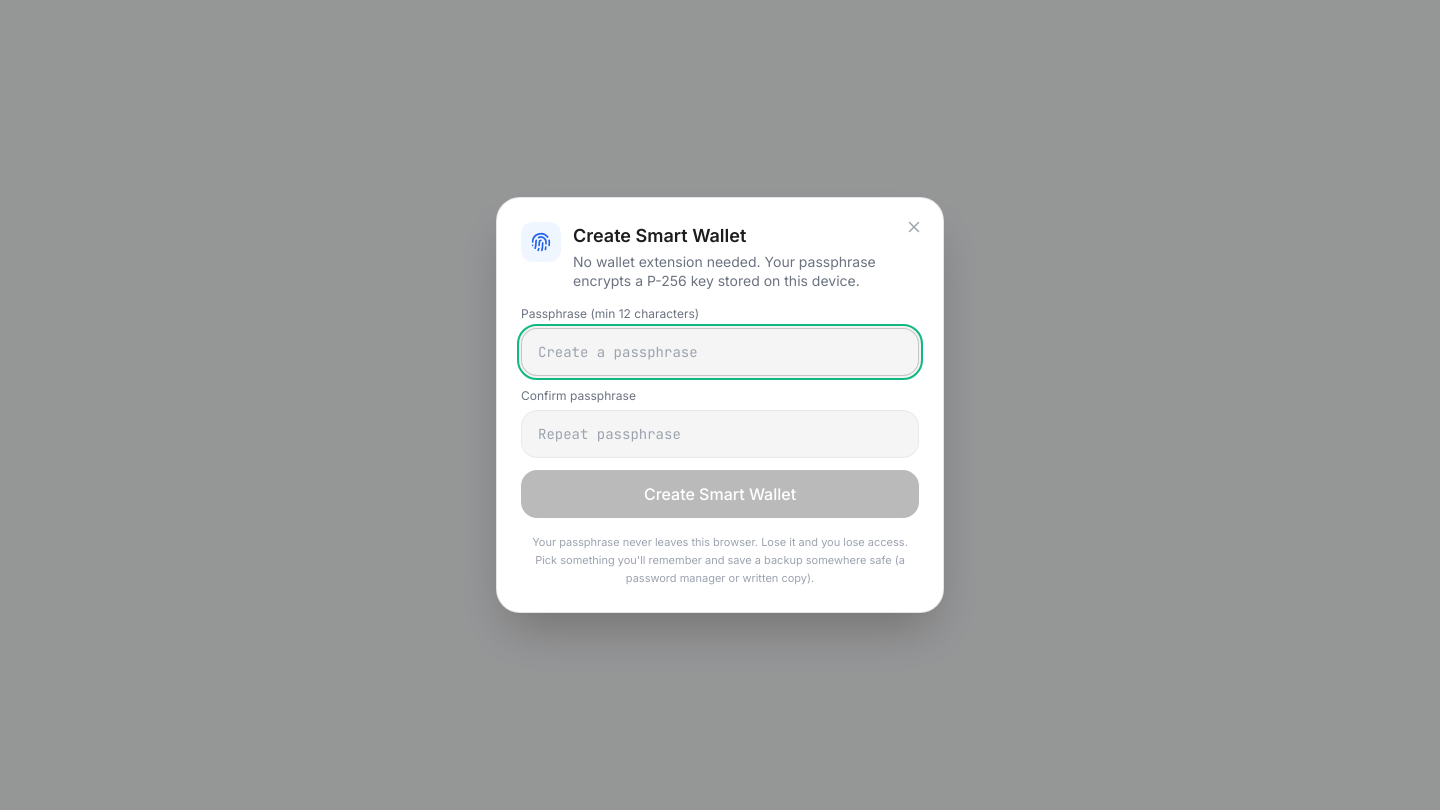
Test: PasskeyCreationModal — submit success (§15.x) › success copy uses activeChain.name in 'Smart account created on {name}'
Type "longenough12" into the password field with test id "passkey-passphrase-new" at (720, 352), box [521,328,919,376]
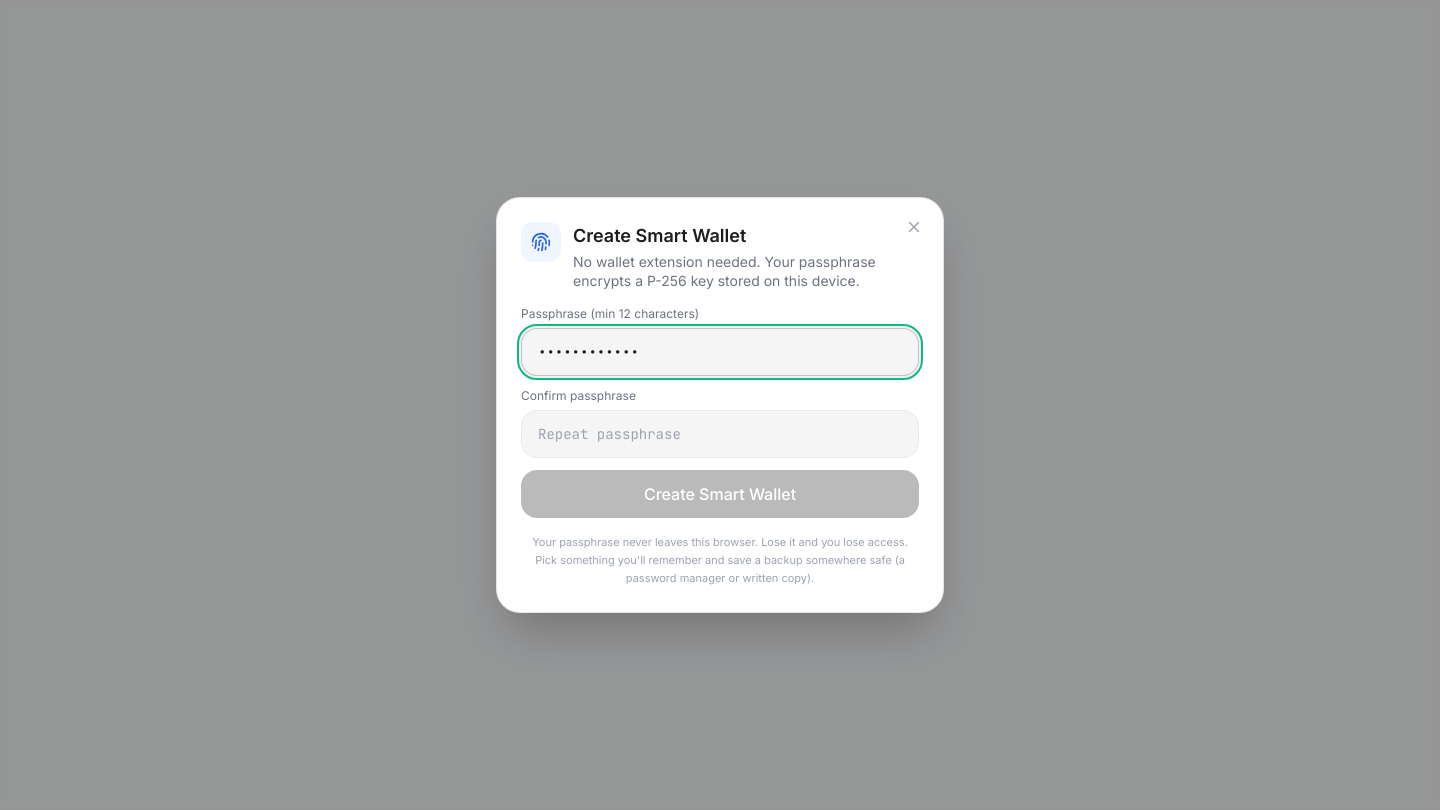
Type "longenough12" into the password field with test id "passkey-passphrase-confirm" at (720, 434), box [521,410,919,458]
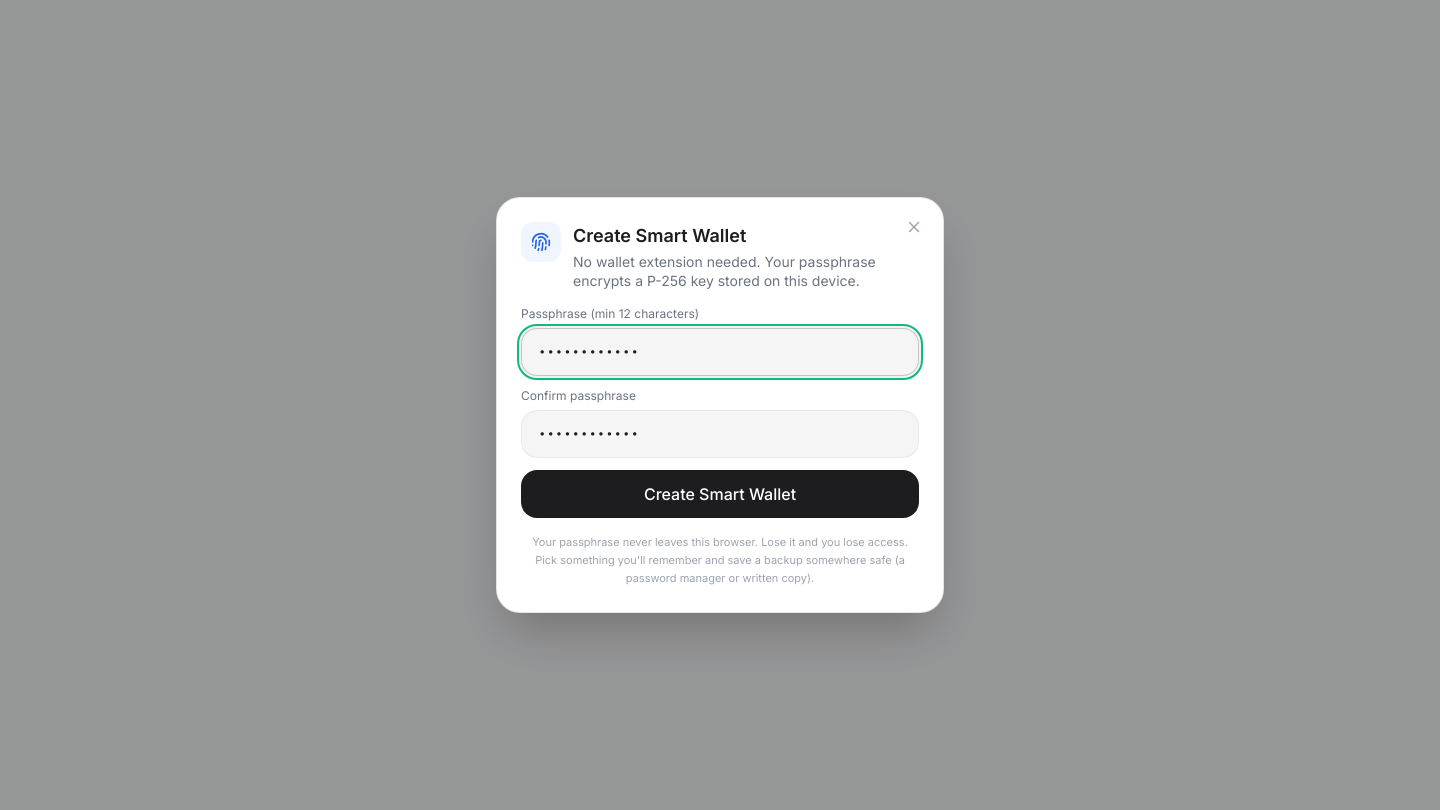
Click the button with test id "passkey-create-submit" at (720, 494), box [521,470,919,518]
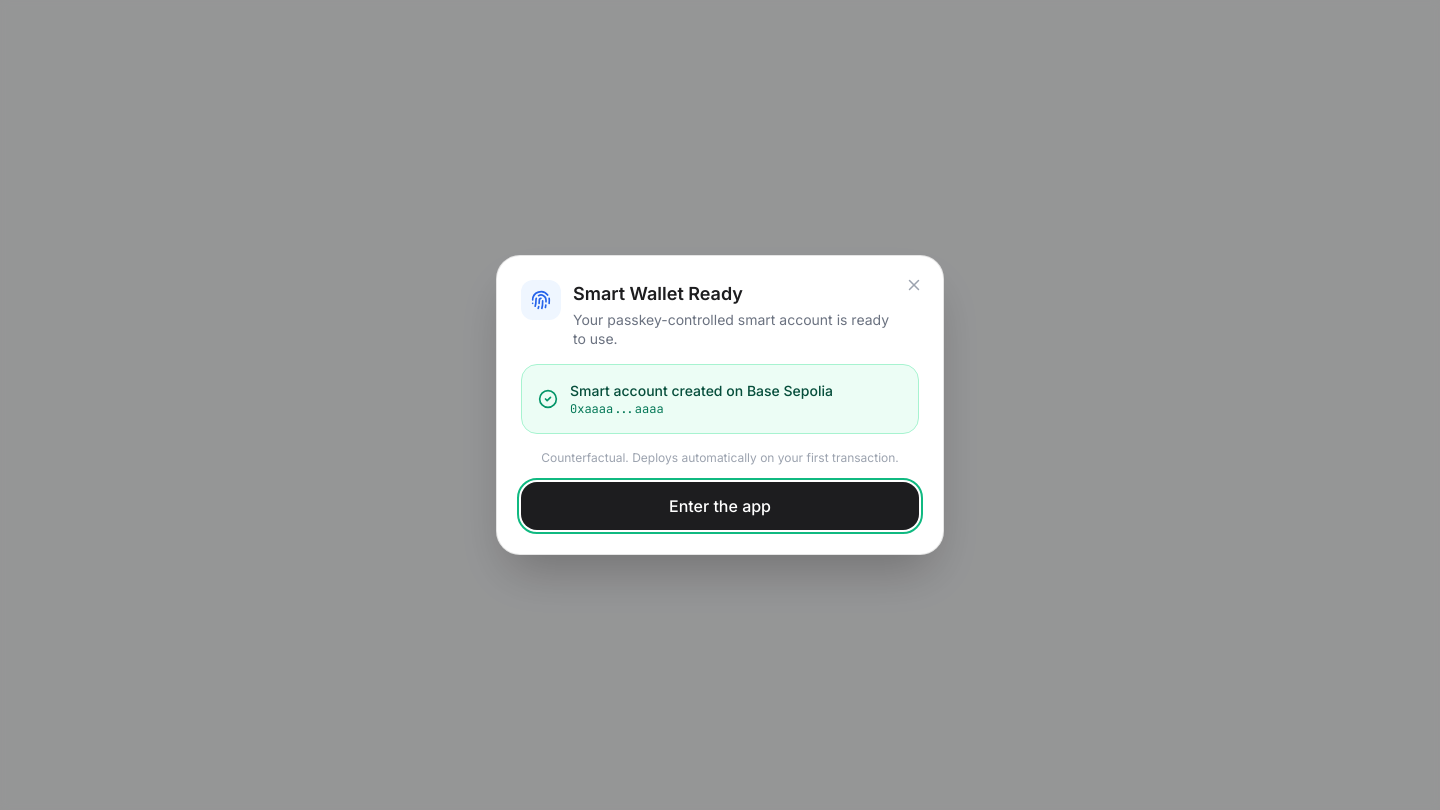
Expected: the text "Smart account created on Base Sepolia" is shown, [570,382,833,399]
